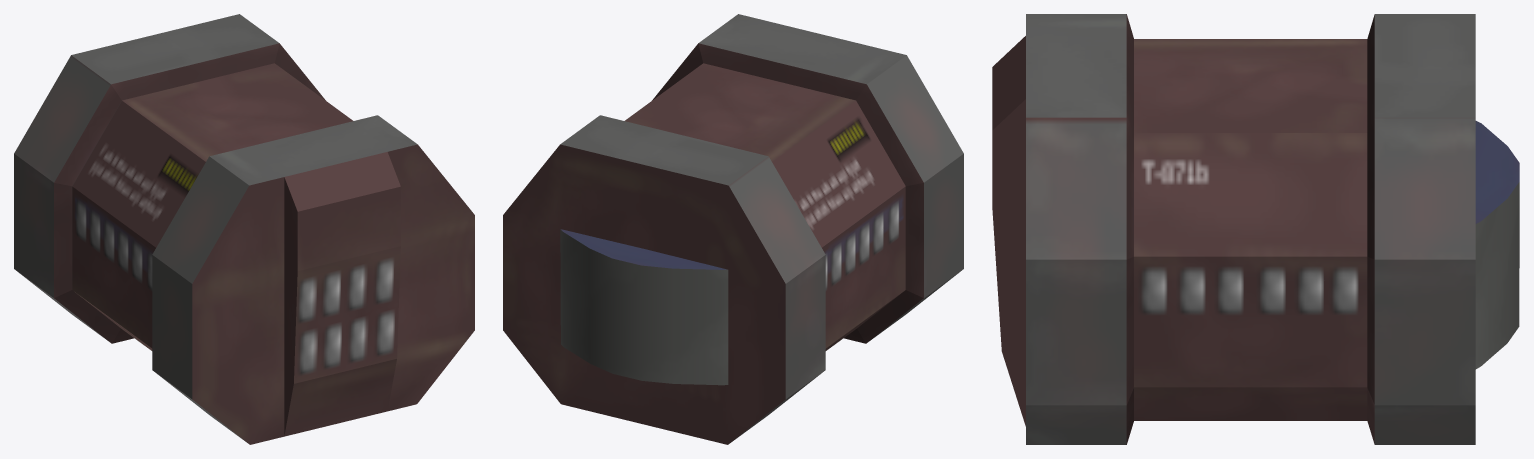
The model's file is crate1.FBX.
3 renders of one model, left to right at view 1: azimuth 30°, elevation 25°; view 2: azimuth 150°, elevation 25°; view 3: azimuth 270°, elevation 25°, orthographic. The views are drawn at different scales.
Visible parts, largest first — view 1: crate1; view 2: crate1; view 3: crate1.
Part boxes in pixels (x1,y1,x2,y2): crate1: [14, 14, 474, 444]; crate1: [503, 14, 963, 444]; crate1: [992, 14, 1519, 444].
Size of the model in its own units: 1.69 by 1.48 by 2.16.
Materials: 1 (1 with a texture image).
